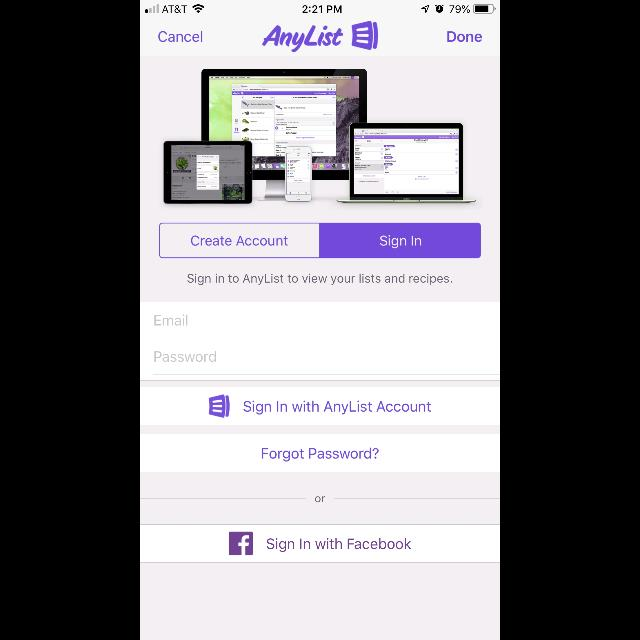icon: (352, 22, 378, 50), (229, 532, 253, 556), (208, 394, 230, 418)
image: (164, 69, 476, 205)
input: (154, 314, 500, 340), (154, 351, 500, 375)
text: (188, 273, 452, 285), (244, 401, 431, 415), (262, 26, 344, 52), (267, 538, 411, 552), (262, 447, 378, 461), (154, 352, 216, 362), (159, 32, 203, 42), (154, 314, 188, 326), (448, 32, 482, 42), (315, 497, 325, 503)
textbutton: (159, 222, 319, 258), (320, 222, 480, 258)
uppertaskbar: (140, 0, 500, 14)
